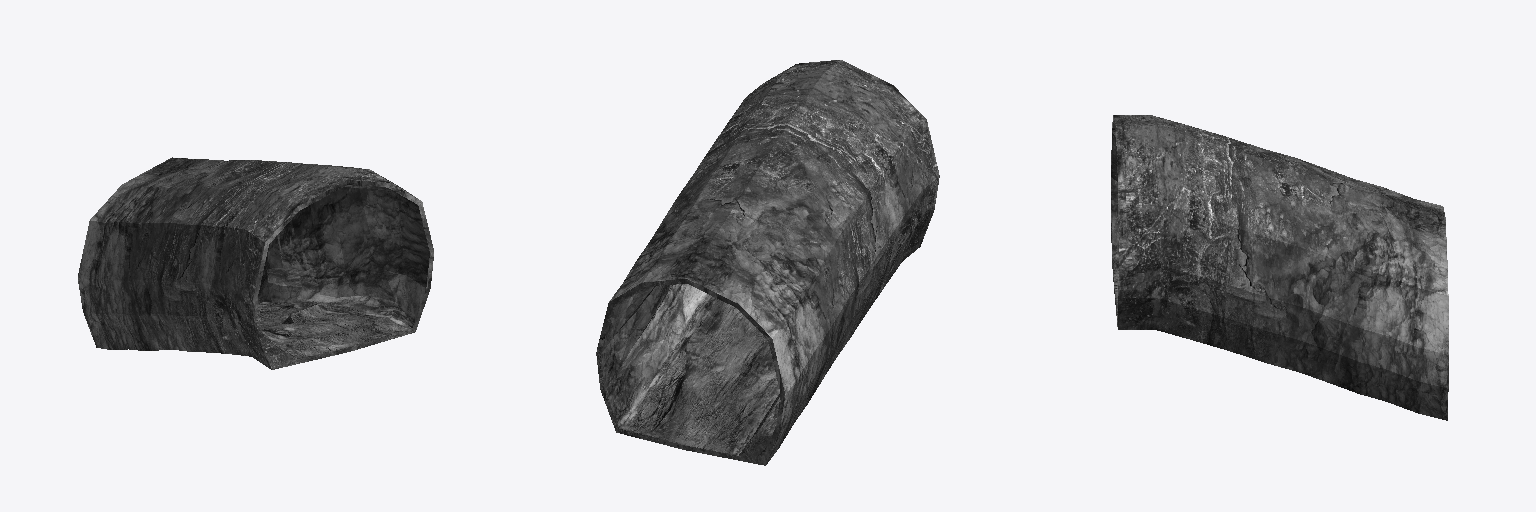
3 renders of one model, left to right at view 1: azimuth 30°, elevation 25°; view 2: azimuth 150°, elevation 25°; view 3: azimuth 270°, elevation 25°, orthographic.
Visible parts, largest first — view 1: Group11_cave6; view 2: Group11_cave6; view 3: Group11_cave6.
Part boxes in pixels (x1,y1,x2,y2): Group11_cave6: (78, 157, 433, 369); Group11_cave6: (596, 60, 939, 465); Group11_cave6: (1111, 115, 1448, 420).
Bounding box in the file's own units: 108 × 141 × 161.
Materials: 1 (1 with a texture image).